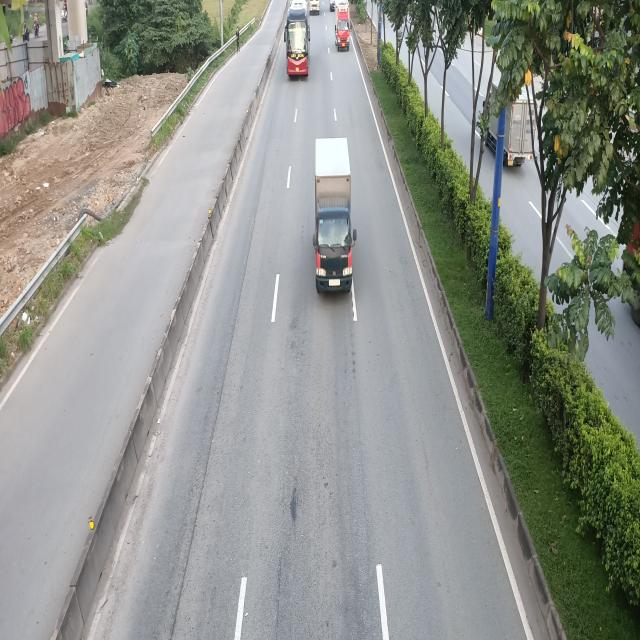coach: (284, 0, 312, 78)
truck: (314, 139, 357, 298), (335, 1, 352, 53)
